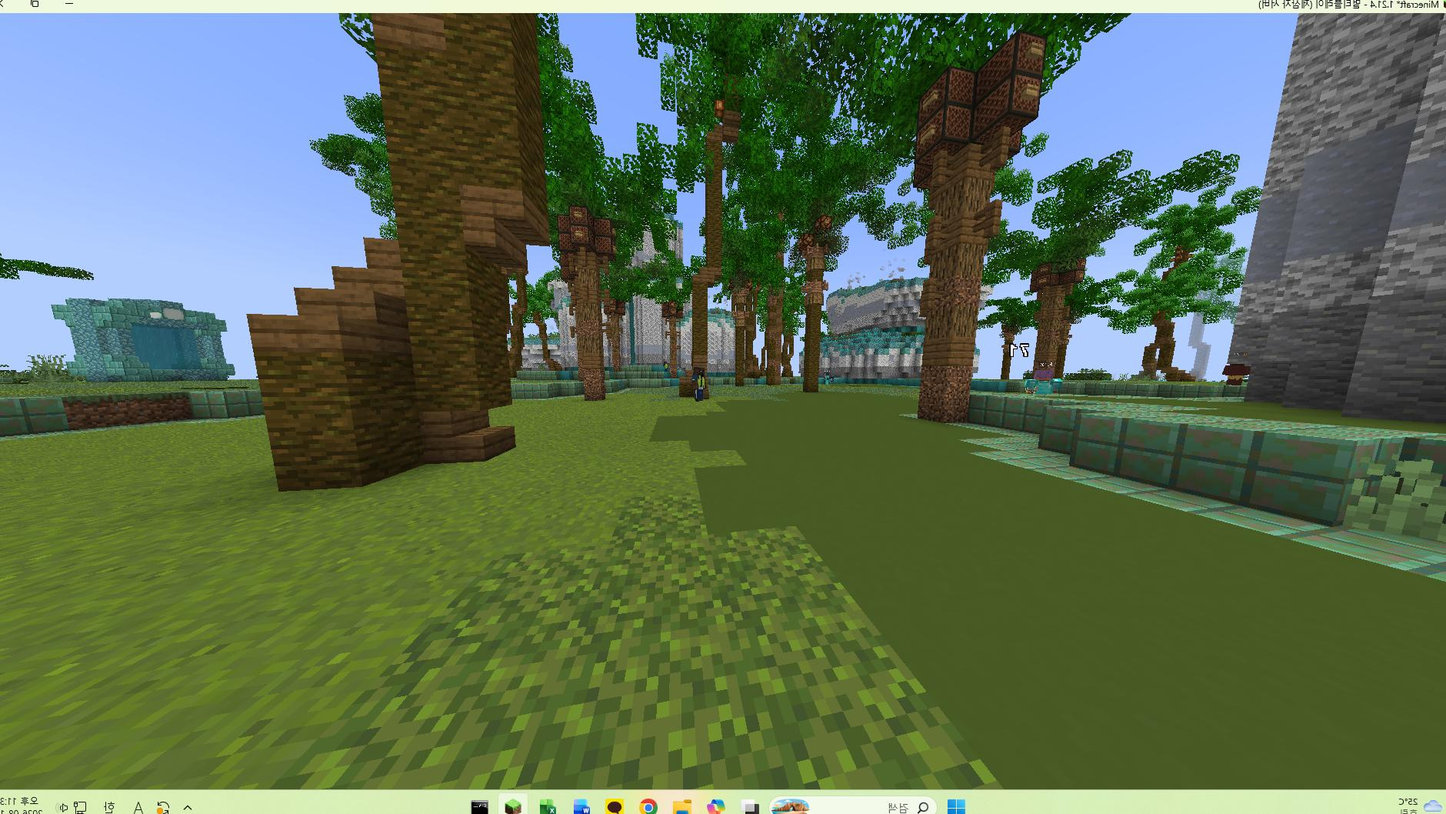Guardian: (685, 363, 711, 400)
